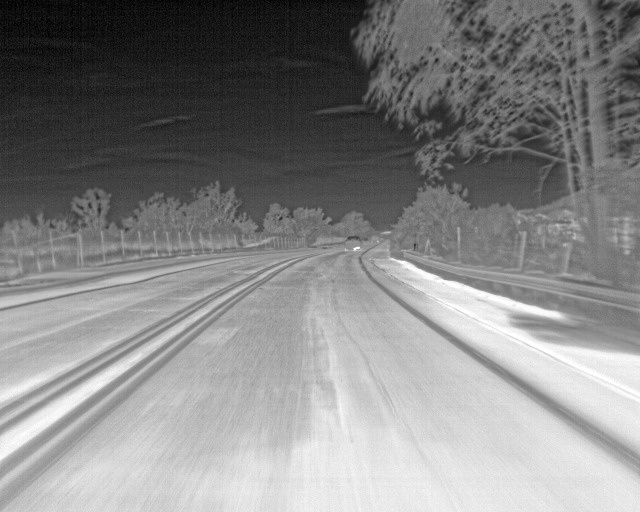car: (344, 234, 365, 250)
